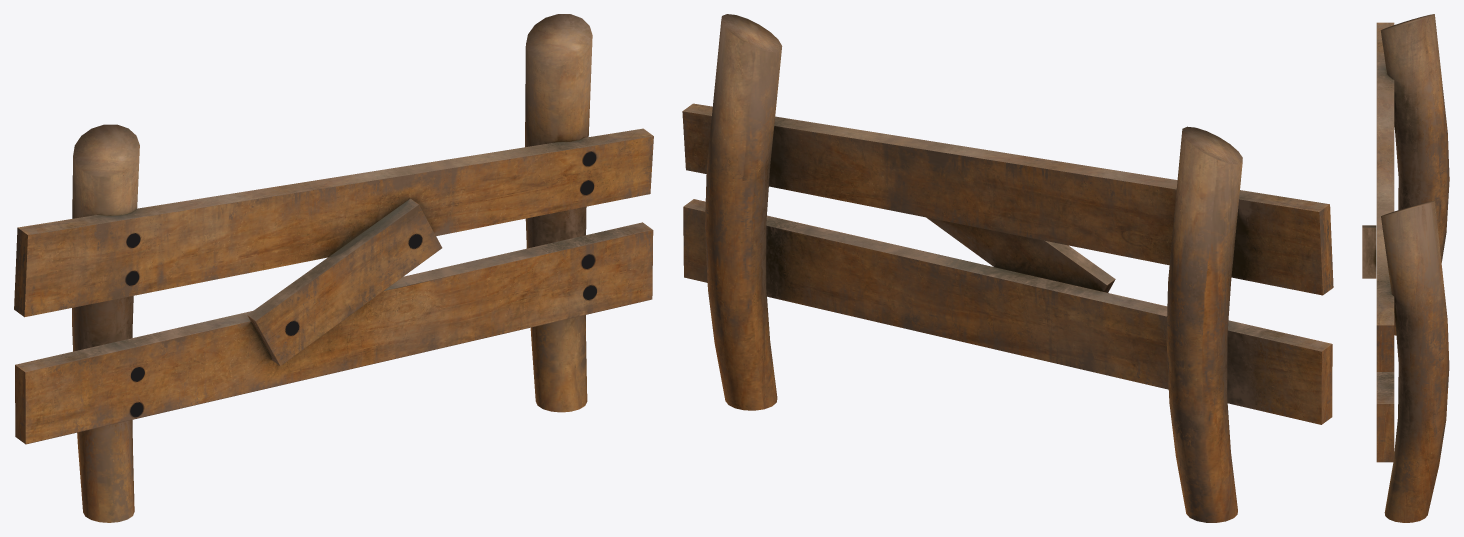
The model's file is Pagar 2.fbx.
The picture shows the model from 3 angles, left to right: view 1: azimuth 30°, elevation 25°; view 2: azimuth 150°, elevation 25°; view 3: azimuth 270°, elevation 25°; orthographic projection. The views are drawn at different scales.
Visible parts, largest first — view 1: Cylinder; view 2: Cylinder; view 3: Cylinder.
Part boxes in pixels (x1,y1,x2,y2): Cylinder: (14, 14, 653, 522); Cylinder: (682, 14, 1333, 522); Cylinder: (1362, 14, 1449, 522).
Size of the model in its own units: 222 by 126 by 31.58.
1 material, 1 textured.
